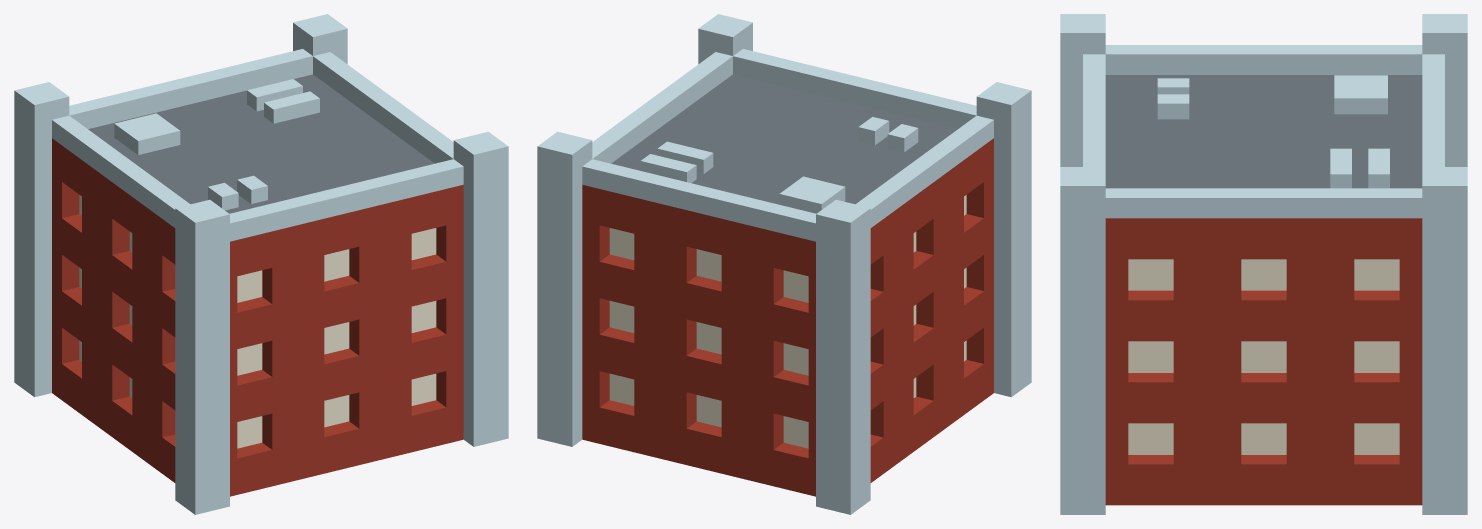
File: Building_11_Extra (Red).obj
3 renders of one model, left to right at view 1: azimuth 30°, elevation 25°; view 2: azimuth 150°, elevation 25°; view 3: azimuth 270°, elevation 25°, orthographic. The views are drawn at different scales.
Parts seen in each view (by area): view 1: Building_11_Extra_(Red); view 2: Building_11_Extra_(Red); view 3: Building_11_Extra_(Red).
Part boxes in pixels (x1=…): Building_11_Extra_(Red): x1=14, y1=14, x2=508, y2=514; Building_11_Extra_(Red): x1=537, y1=14, x2=1031, y2=514; Building_11_Extra_(Red): x1=1060, y1=14, x2=1467, y2=514.
Size of the model in its own units: 1.8 by 1.6 by 1.8.
